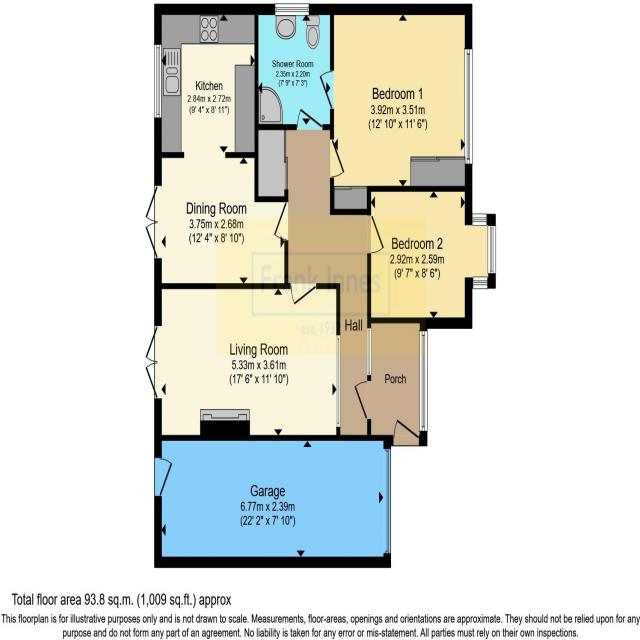DOOR: (391, 414, 422, 449), (152, 455, 176, 500), (315, 67, 336, 113), (328, 135, 348, 182), (352, 378, 372, 424), (366, 213, 386, 257), (288, 281, 318, 309), (272, 200, 290, 246)
DOUBLE DOOR: (140, 320, 162, 402), (142, 181, 162, 262)
ROOM: (142, 2, 289, 292), (317, 2, 474, 218), (141, 280, 342, 443), (366, 184, 497, 332)
WINDOW: (462, 46, 475, 167), (418, 328, 429, 434), (152, 43, 163, 120), (335, 332, 342, 431), (273, 1, 311, 19), (486, 223, 498, 277), (366, 326, 374, 378), (472, 275, 490, 291), (471, 213, 488, 229)
